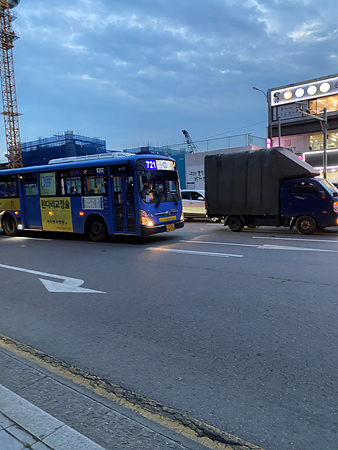entrance: (110, 169, 138, 232)
